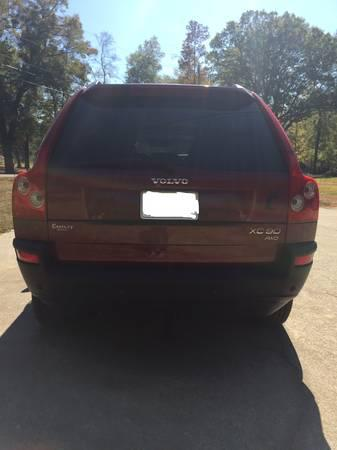volvo: (7, 59, 337, 334)
